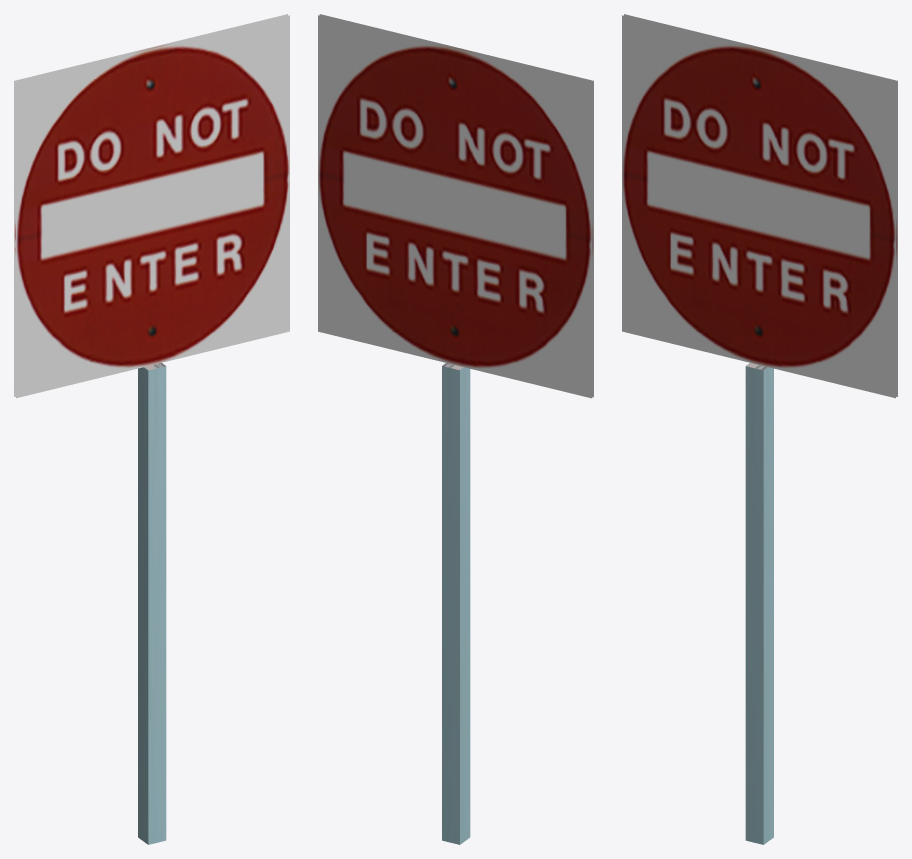
File: sign03.FBX
3 renders of one model, left to right at view 1: azimuth 30°, elevation 25°; view 2: azimuth 150°, elevation 25°; view 3: azimuth 330°, elevation 25°, orthographic.
Parts seen in each view (by area): view 1: sign03-donotenter; view 2: sign03-donotenter; view 3: sign03-donotenter.
Part boxes in pixels (<box>): sign03-donotenter: <box>14,14,289,844</box>; sign03-donotenter: <box>318,14,593,844</box>; sign03-donotenter: <box>622,14,897,844</box>.
Size of what is drawn, in the model's own units: 0.9066 by 0.06 by 2.5.
